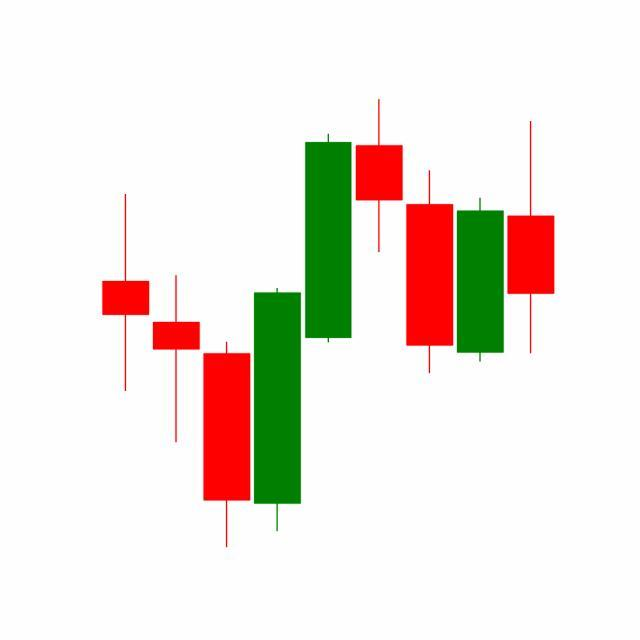Hikkake Pattern: (302, 100, 555, 379)
